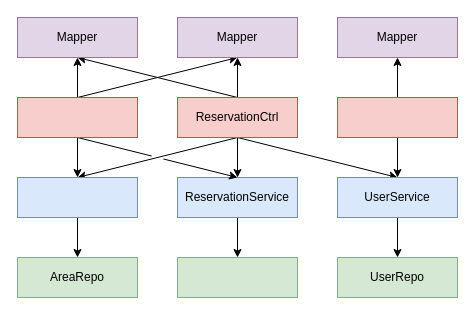
Image size: 475x315. Some labels were removed from this diagram. The centre of each missing label's shape, as x and y in pixels:
AreaController: (x=77, y=117)
AreaService: (x=77, y=197)
ReservationRepo: (x=237, y=277)
UserController: (x=397, y=117)
